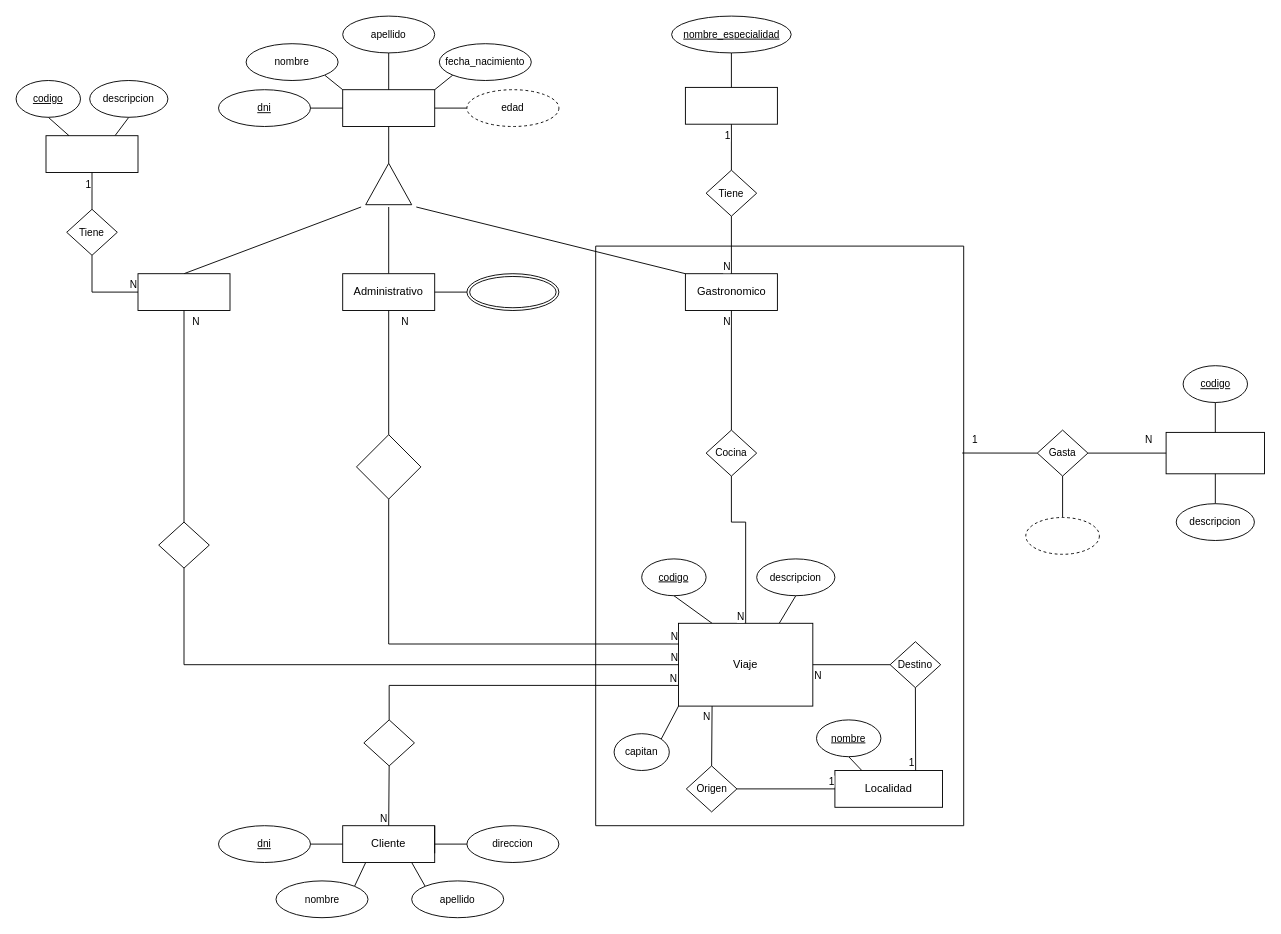
The diagram is 1281 pixels wide and 934 high, and some of its shapes have lost their labels. Each missing label, with the centre of its shape:
Administra: (388,466)
Categoria: (91,153)
Especialidad: (730,105)
Gasto: (1215,452)
is_a: (388,183)
monto: (1062,535)
Navega: (183,544)
Navegante: (183,291)
telefonos: (512,291)
Tripulante: (388,107)
Viaja: (388,742)
